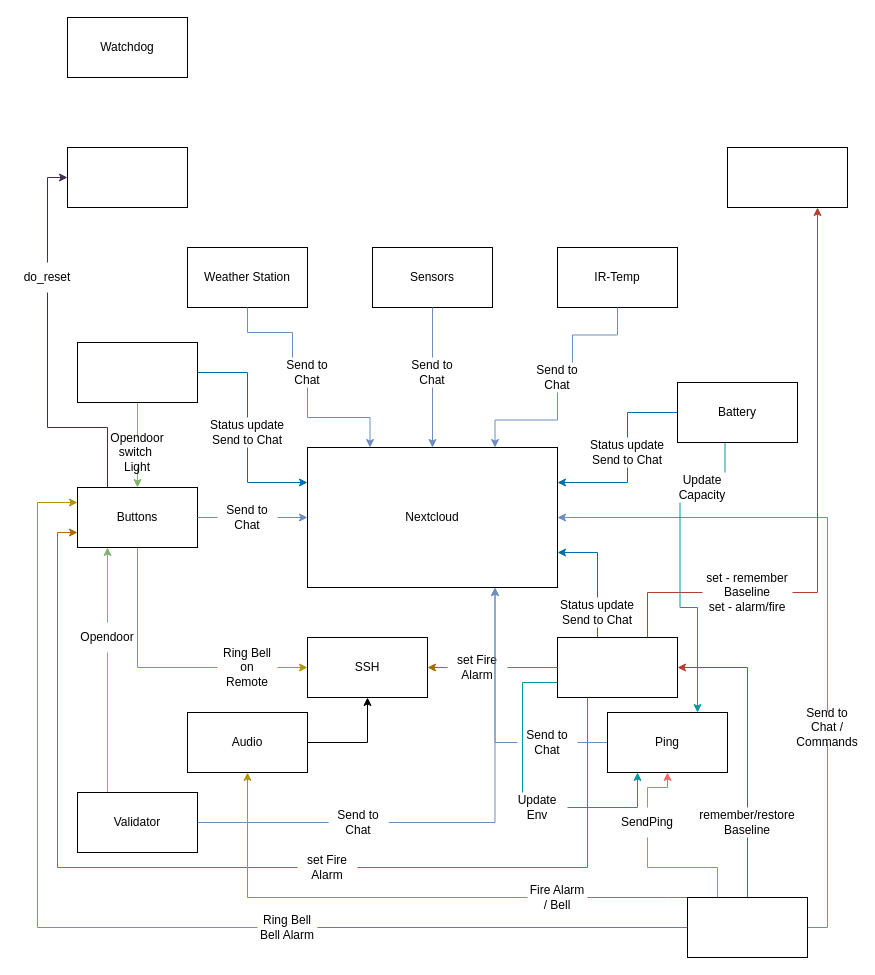
Some shapes in this 875 by 975 pixel diagram are drawn without their labels. Each missing label, with the centre of its shape:
Config: the point at 787,177
Environment: the point at 617,667
Garage: the point at 137,372
PWR: the point at 127,177
Signals: the point at 747,927
